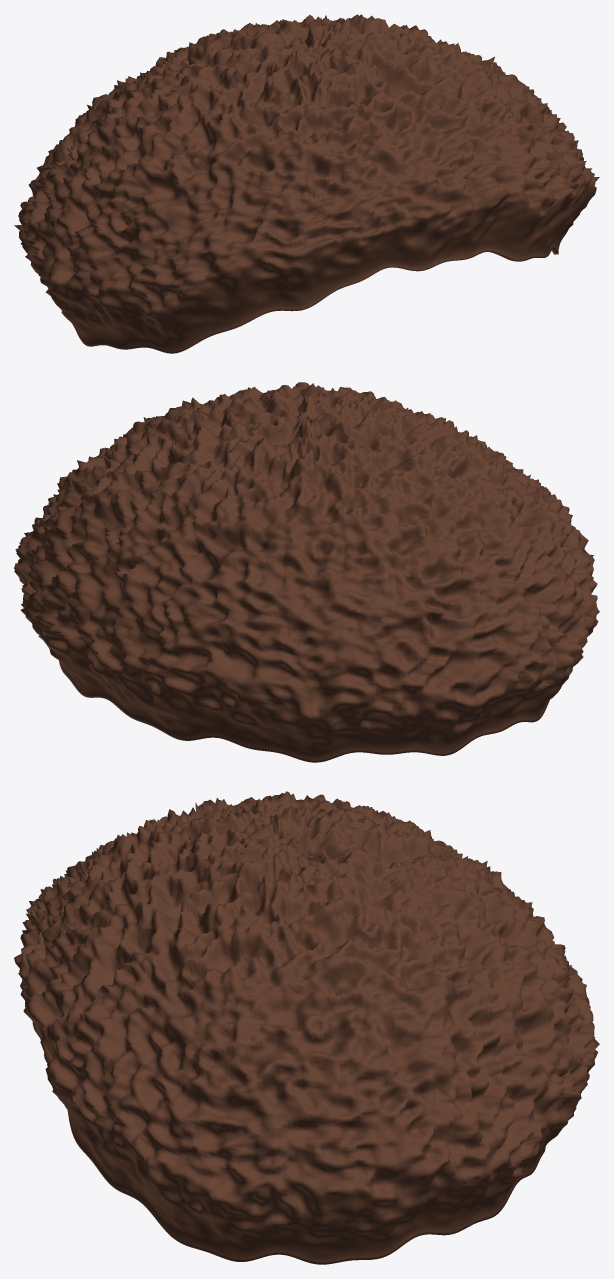
Rendered from Masculine-afro-ears260-hair.glb.
3 renders of one model, top to bottom at view 1: azimuth 30°, elevation 25°; view 2: azimuth 150°, elevation 25°; view 3: azimuth 270°, elevation 25°, orthographic. The views are drawn at different scales.
Visible parts, largest first — view 1: 226 hair / Hair252 / dense natural coil groups.001; view 2: 226 hair / Hair252 / dense natural coil groups.001; view 3: 226 hair / Hair252 / dense natural coil groups.001.
Part boxes in pixels (x1=…): 226 hair / Hair252 / dense natural coil groups.001: x1=14, y1=14, x2=599, y2=353; 226 hair / Hair252 / dense natural coil groups.001: x1=14, y1=382, x2=599, y2=762; 226 hair / Hair252 / dense natural coil groups.001: x1=14, y1=791, x2=599, y2=1264.
Bounding box in the file's own units: 1.12 × 0.513 × 0.8871.
